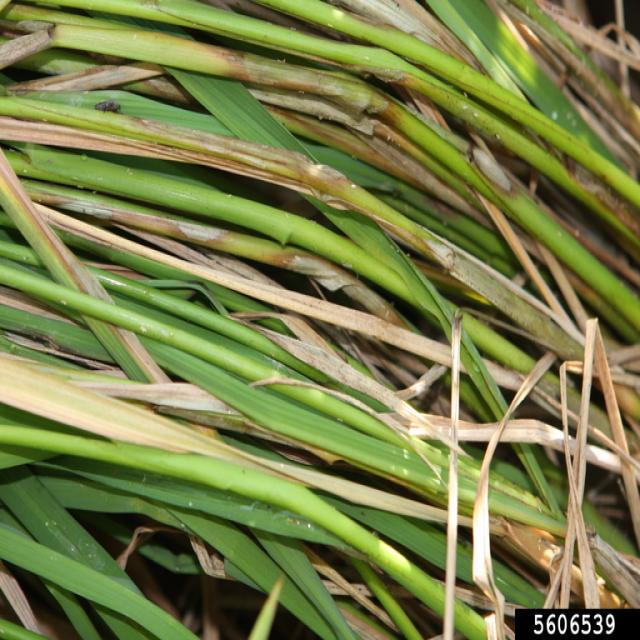Bacterial leaf blight: (1, 91, 640, 595)
